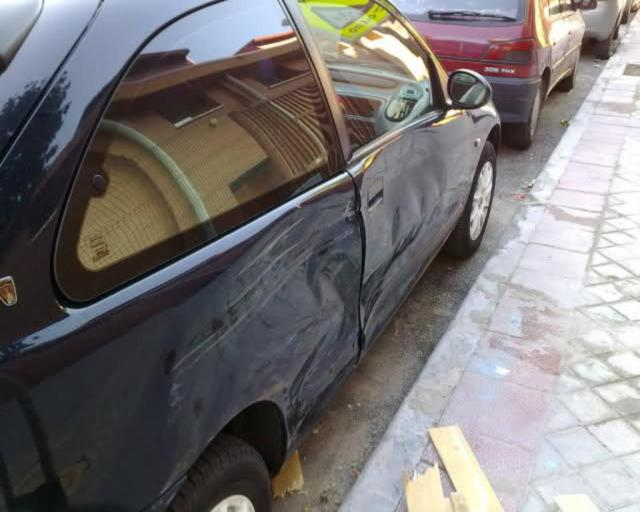dent: (155, 115, 462, 511)
scratch: (166, 207, 324, 416)
